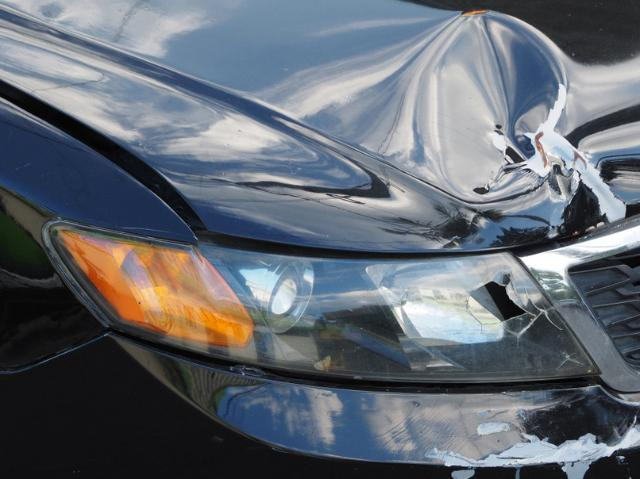Bonnet: (277, 6, 626, 248)
Bumper: (388, 398, 640, 479)
Light: (400, 255, 567, 379)
